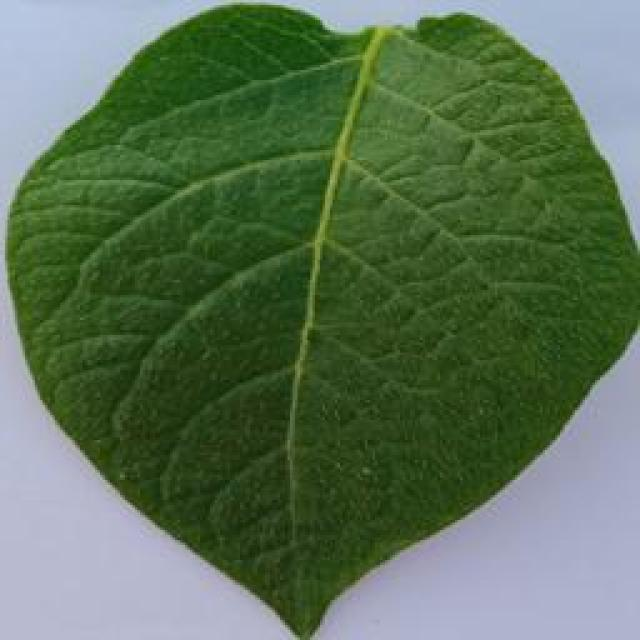Potato_Healthy: (6, 4, 626, 635)
